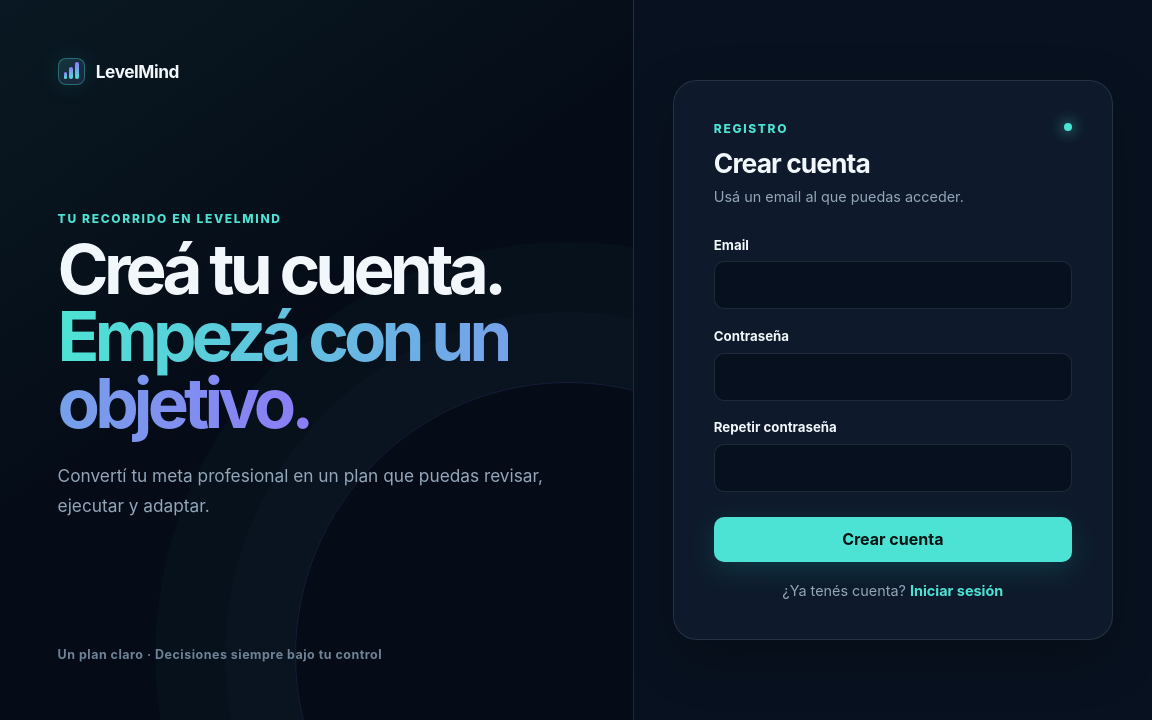
Scenario: registration with Supabase Auth › maps registration error User already registered to safe feedback
In the field labelled "Email": point(893, 285) [714,261,1072,309], type "new@example.com"
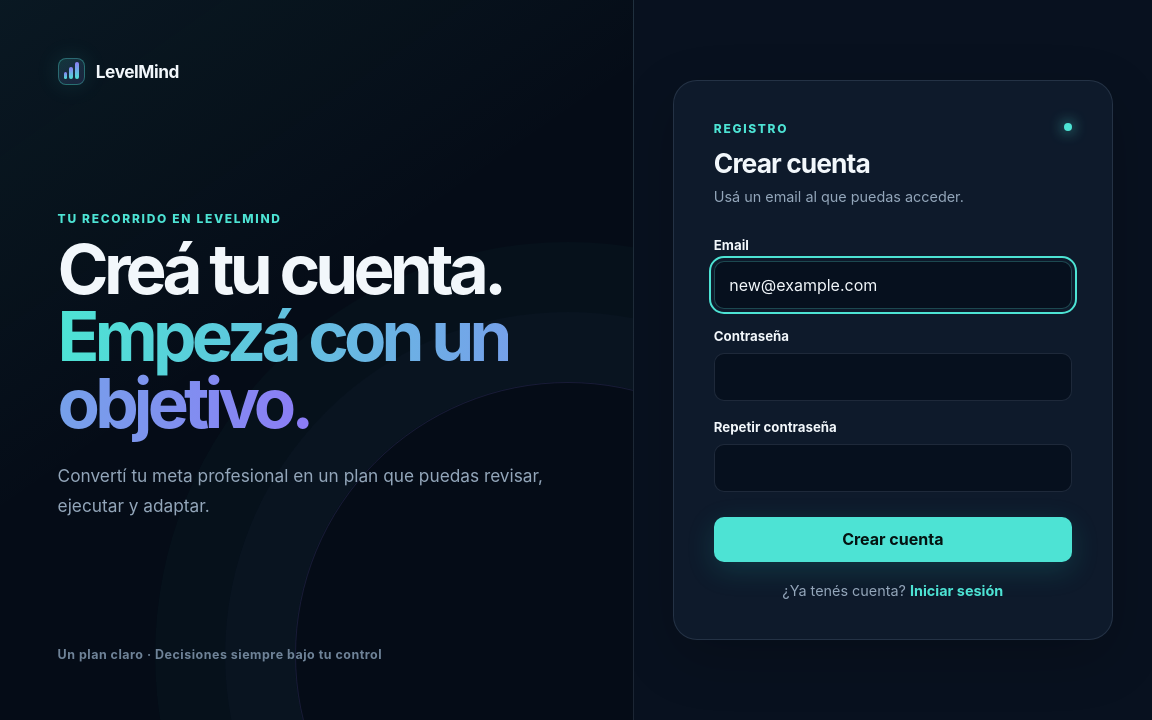
In the password field labelled "Contraseña": point(893, 376) [714,352,1072,400], type "secret1"
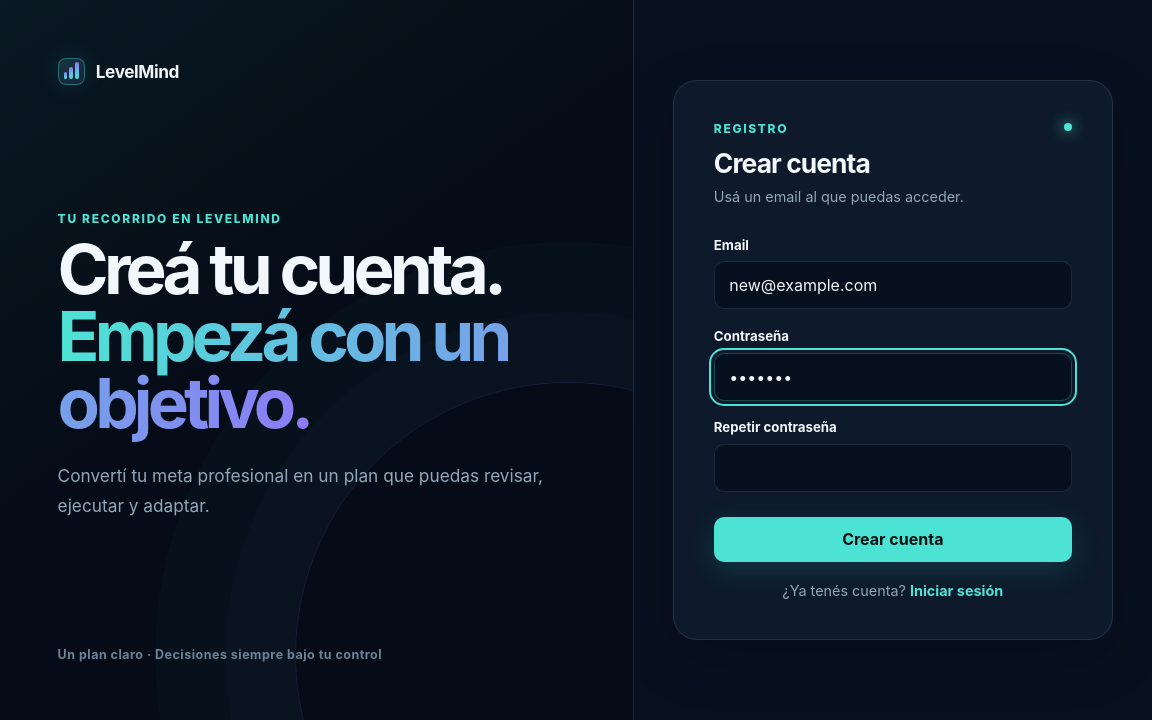
In the password field labelled "Repetir contraseña": point(893, 468) [714,444,1072,492], type "secret1"
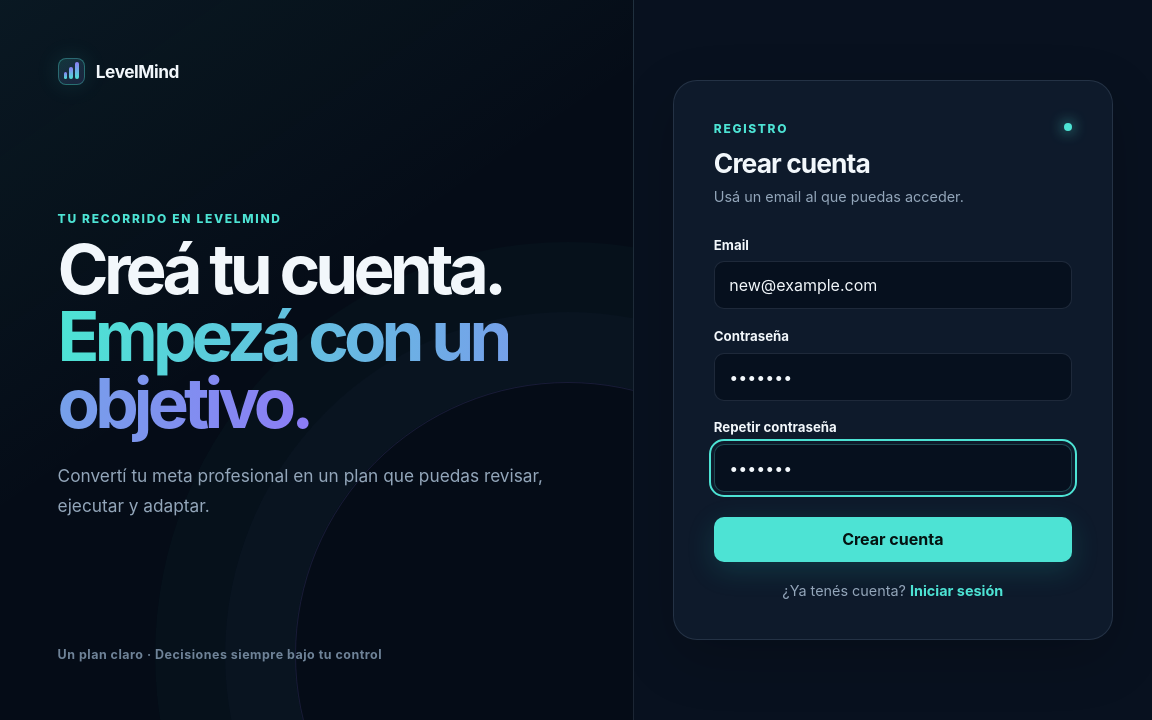
Click the button "Crear cuenta": point(893, 540) [714,517,1072,562]
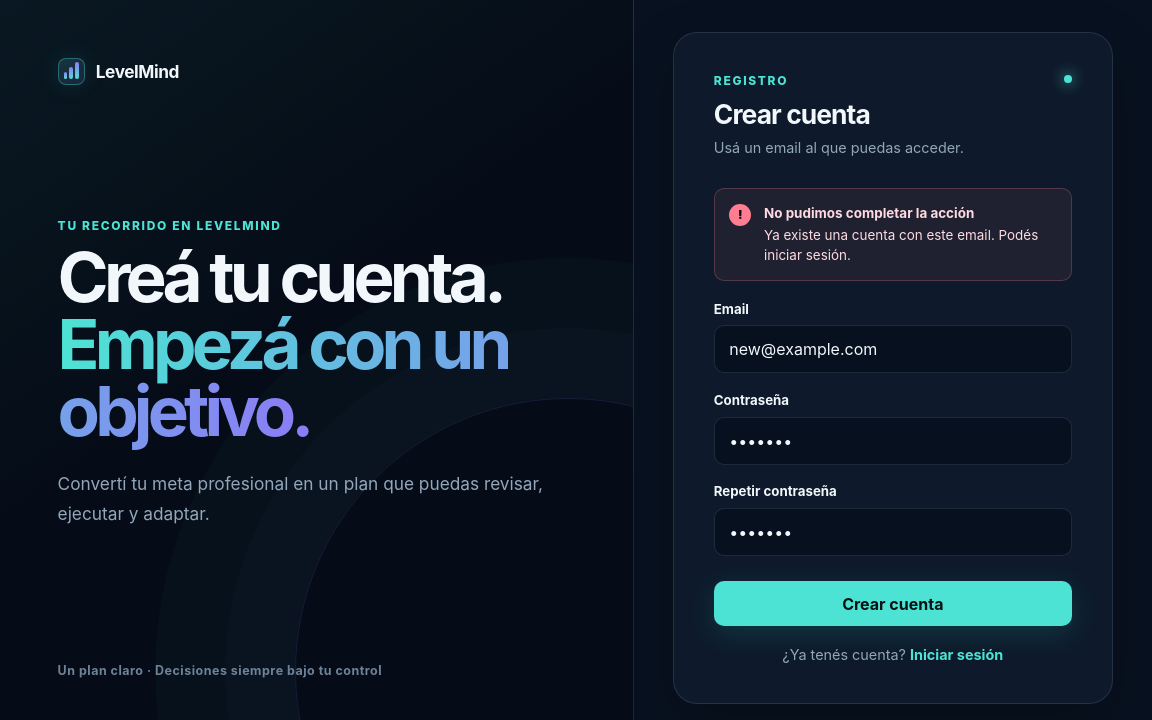
Expected: the message shows "Ya existe una cuenta con este email. Podés iniciar sesión.", [764,227,1038,263]
